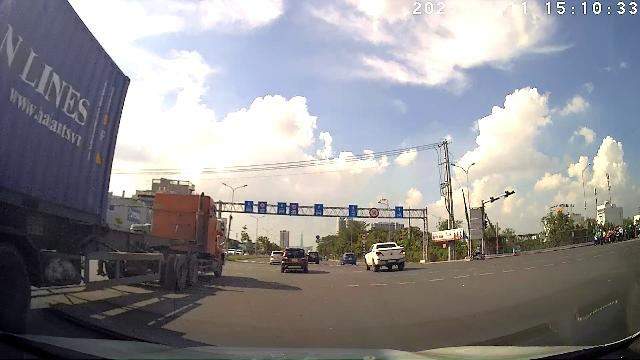127-toc-do-toi-da-50: (369, 207, 379, 217)
